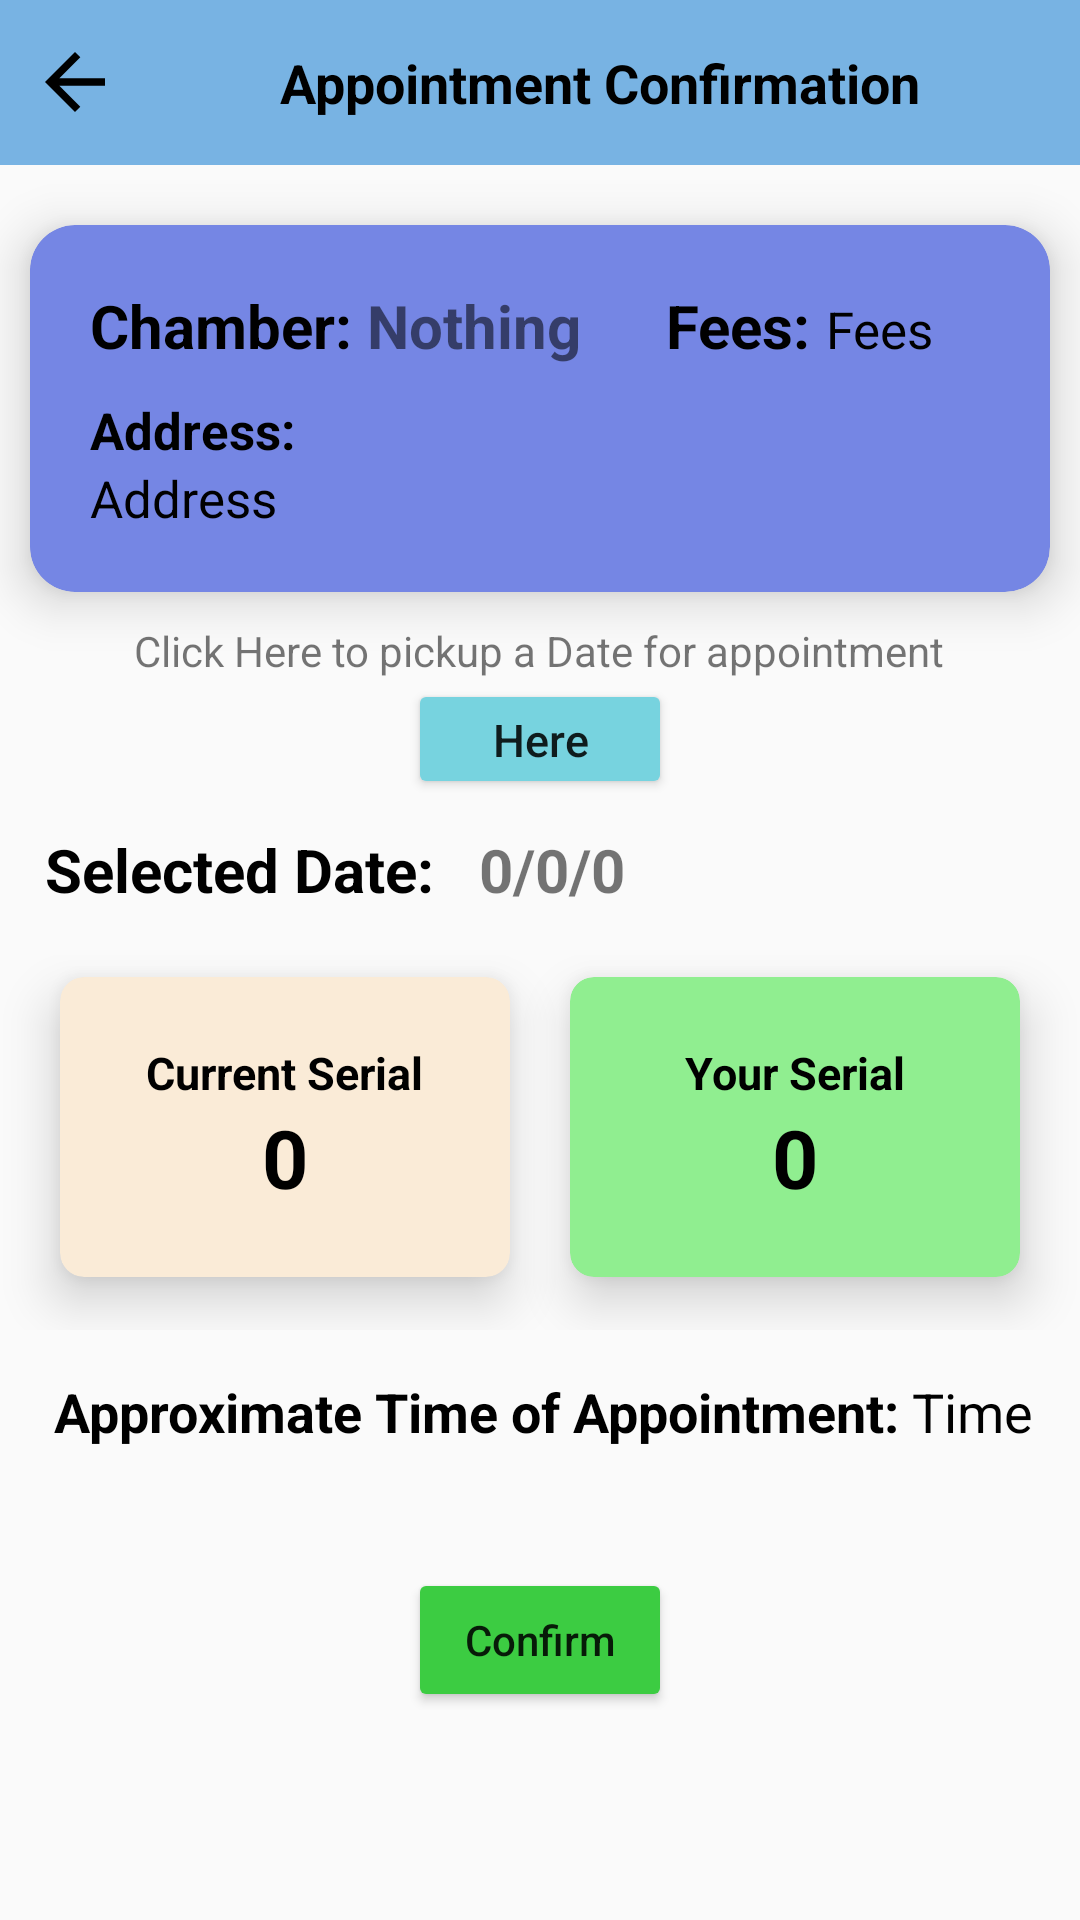

Point at icon controls on the screen. Image size 1080 × 1920, points as point (x, y).
back: point (75, 82)
